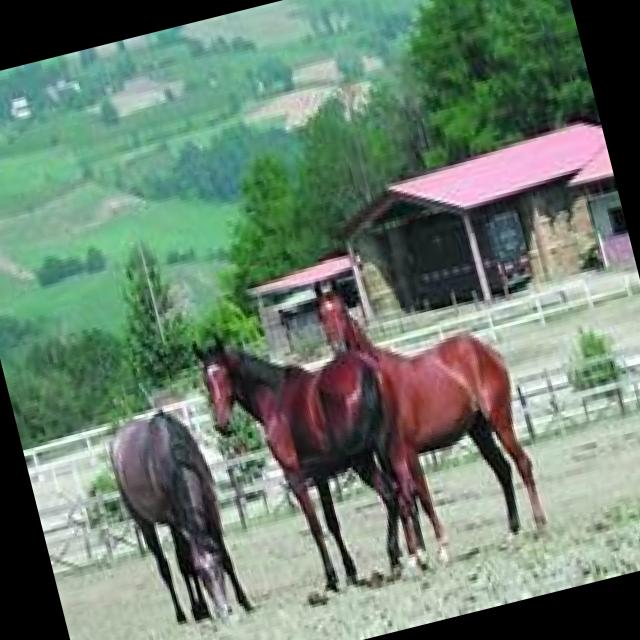animal: (190, 292, 436, 614), (314, 252, 554, 580), (101, 396, 254, 636)
